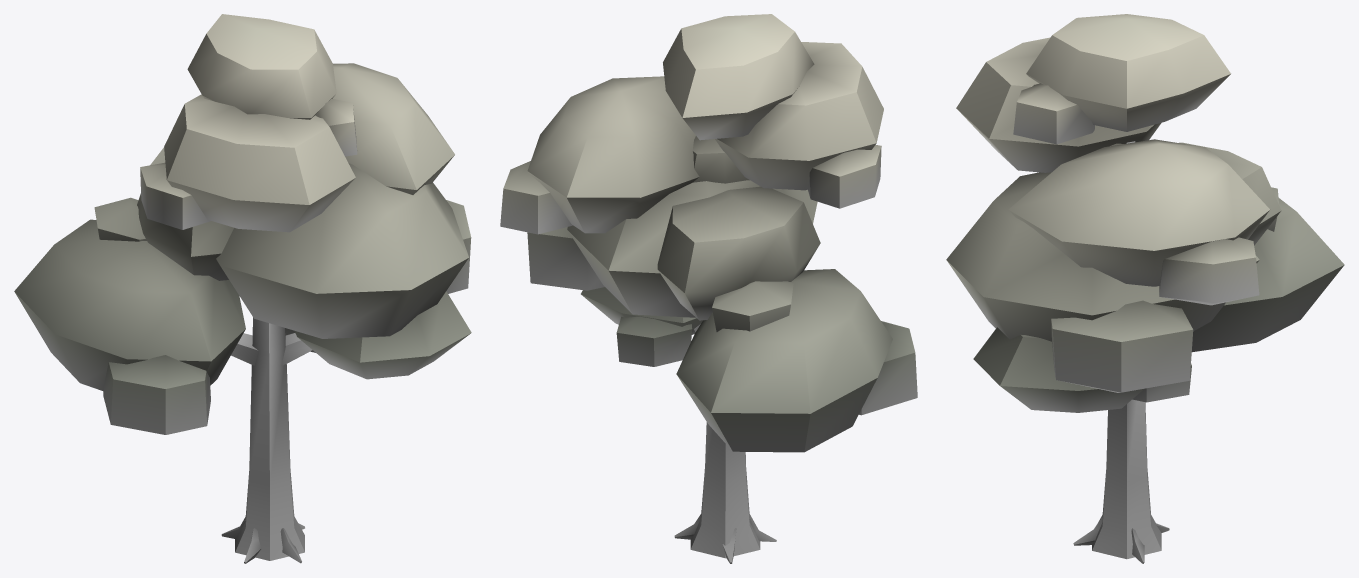
Rendered from beech_b.glb.
3 renders of one model, left to right at view 1: azimuth 30°, elevation 25°; view 2: azimuth 150°, elevation 25°; view 3: azimuth 270°, elevation 25°, orthographic.
Parts seen in each view (by area): view 1: Crown.001, Trunk.001; view 2: Crown.001, Trunk.001; view 3: Crown.001, Trunk.001.
Boxes of the visible parts, x1=… form: Crown.001: x1=14, y1=14, x2=471, y2=434; Trunk.001: x1=221, y1=317, x2=312, y2=563; Crown.001: x1=500, y1=14, x2=917, y2=452; Trunk.001: x1=674, y1=146, x2=776, y2=563; Crown.001: x1=946, y1=14, x2=1344, y2=412; Trunk.001: x1=1073, y1=141, x2=1169, y2=563.
Size of the model in its own units: 8.01 by 10.6 by 7.39.
